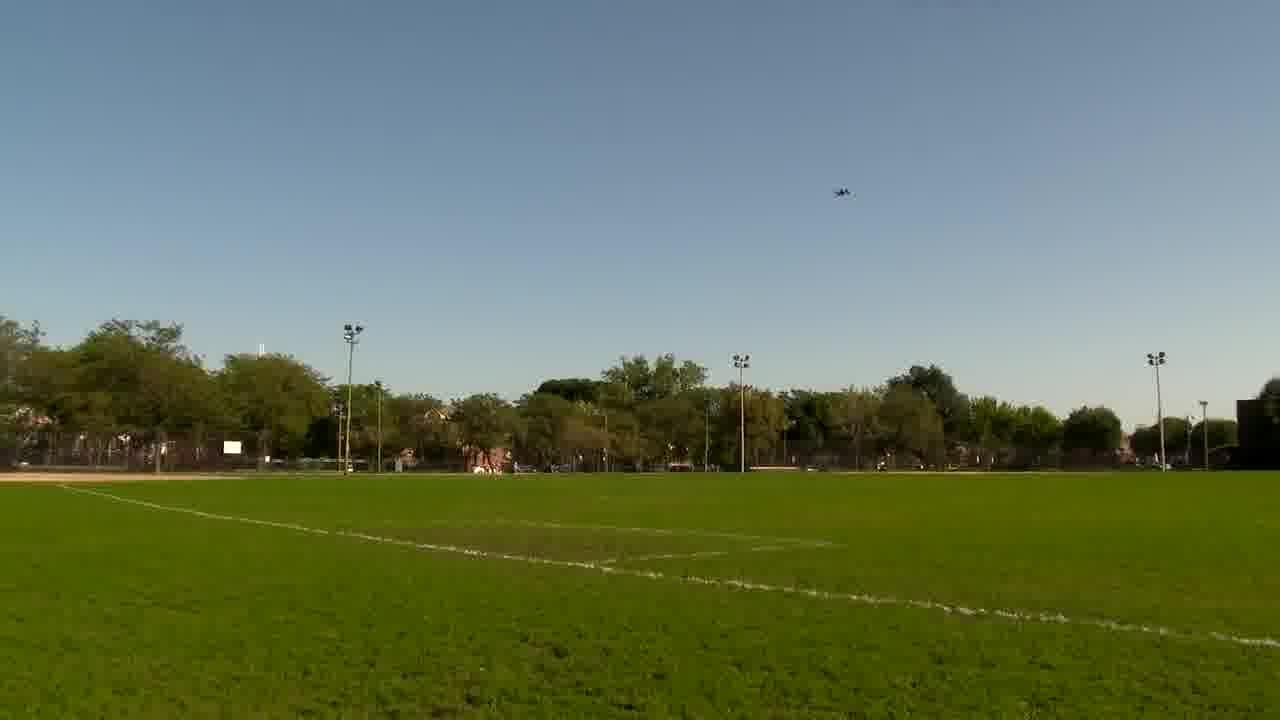drone: (826, 179, 858, 208)
